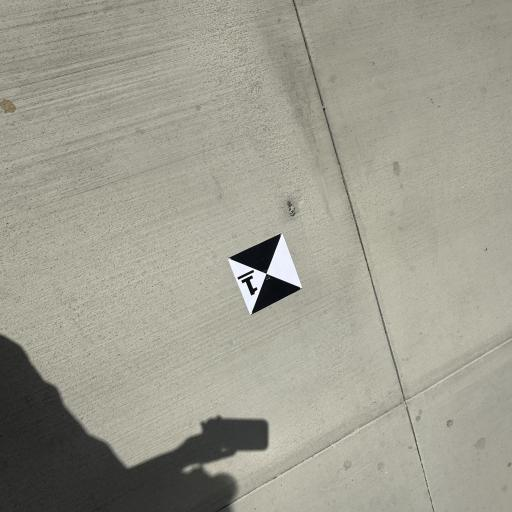target1: (216, 224, 308, 316), (223, 232, 232, 242)
